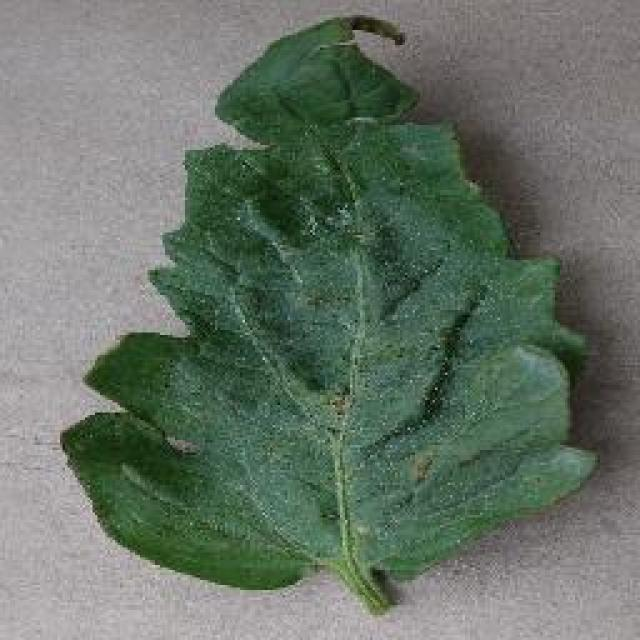Tomato___Bacterial_spot: (60, 9, 603, 619)
